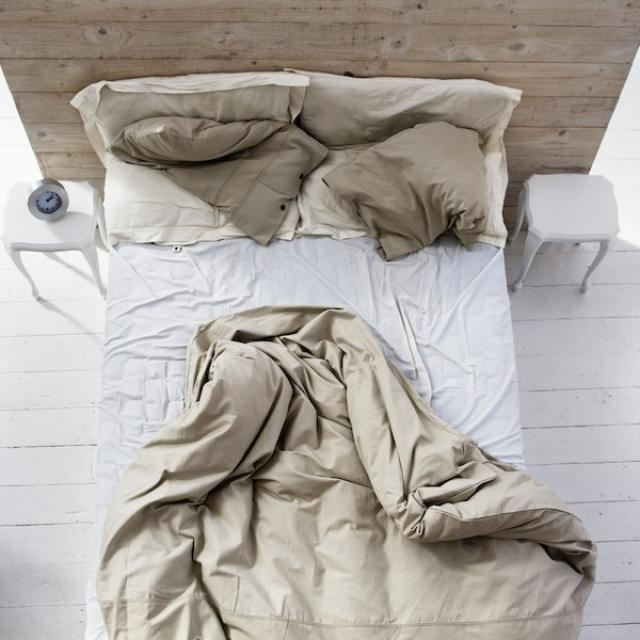bed: (79, 72, 519, 640)
